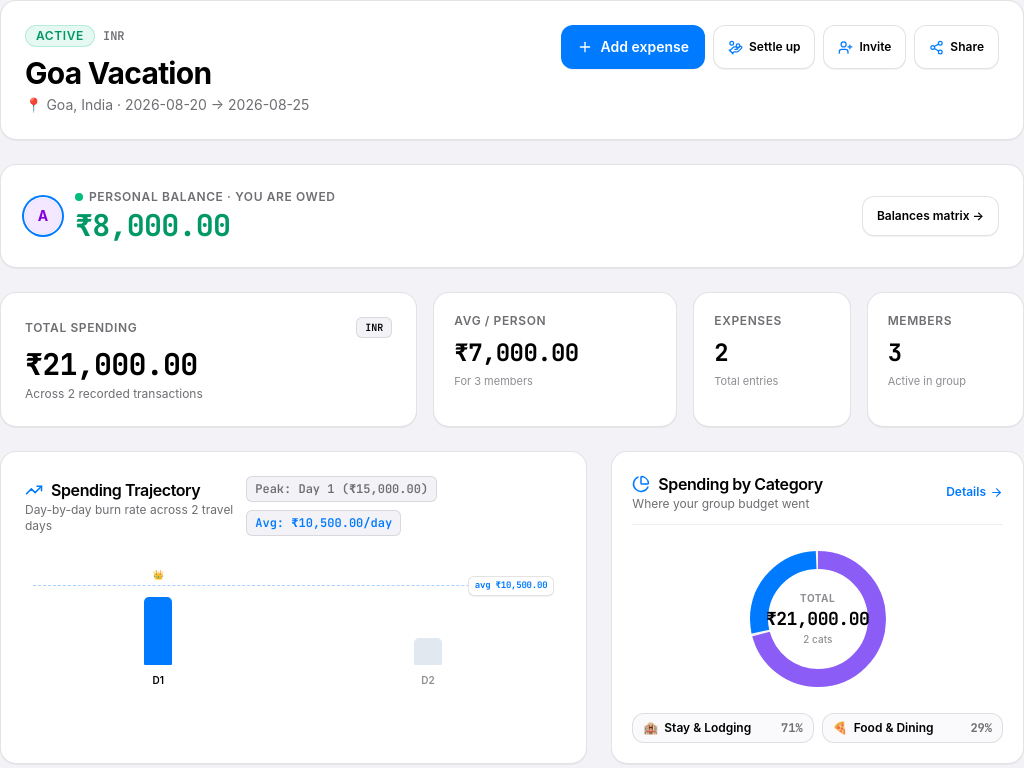
it: TripOverviewPage - Travel Finance Hub › opens invite traveler modal when Invite button is clicked
Click the button with aria-label "Invite traveler": (865, 47) [824,25,906,69]
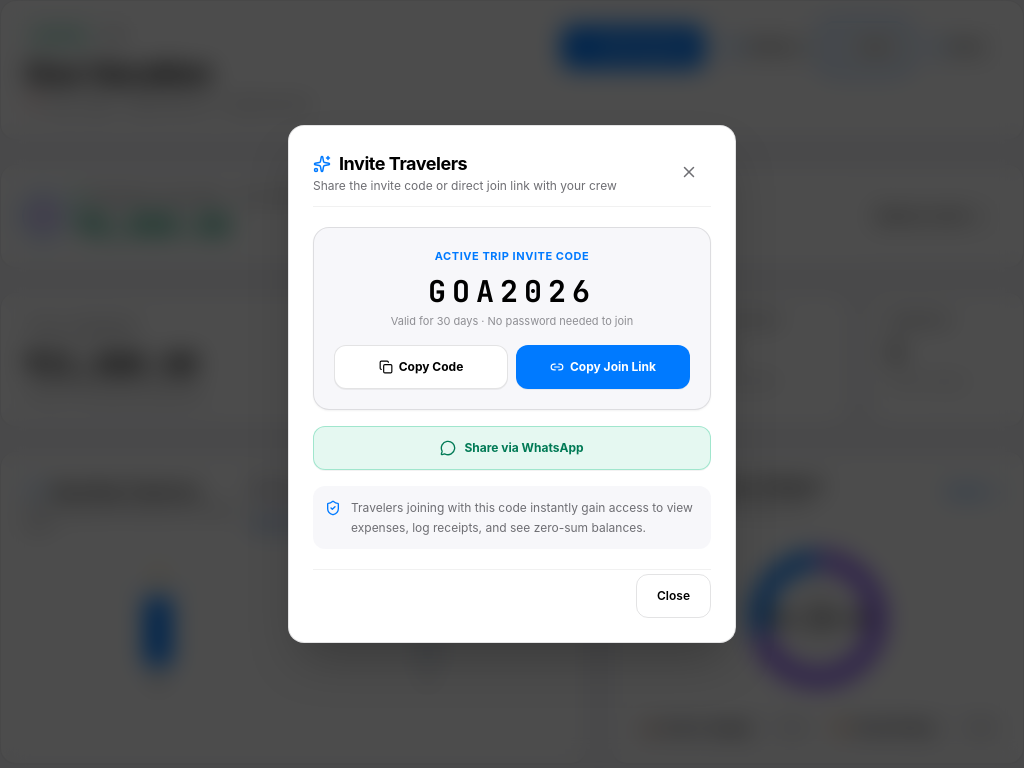
Check: the dialog "Invite Travelers" is shown
Check: the text "Active Trip Invite Code" is shown, box [435,249,589,263]
